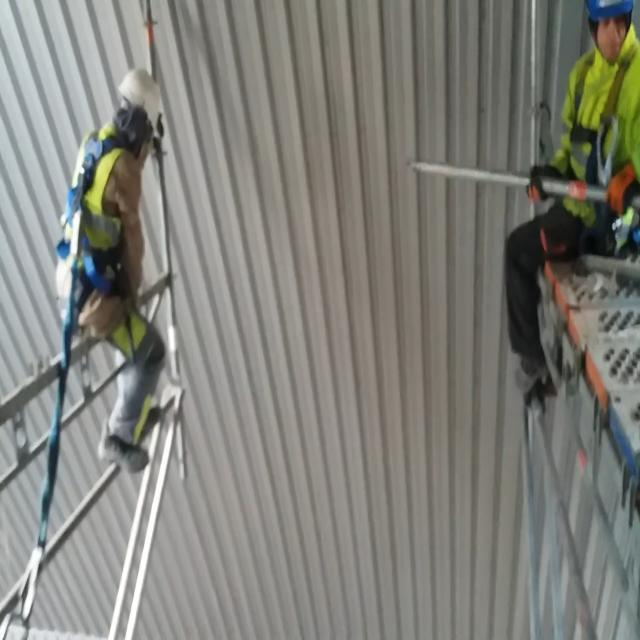belt: (44, 116, 142, 340), (558, 41, 638, 236)
